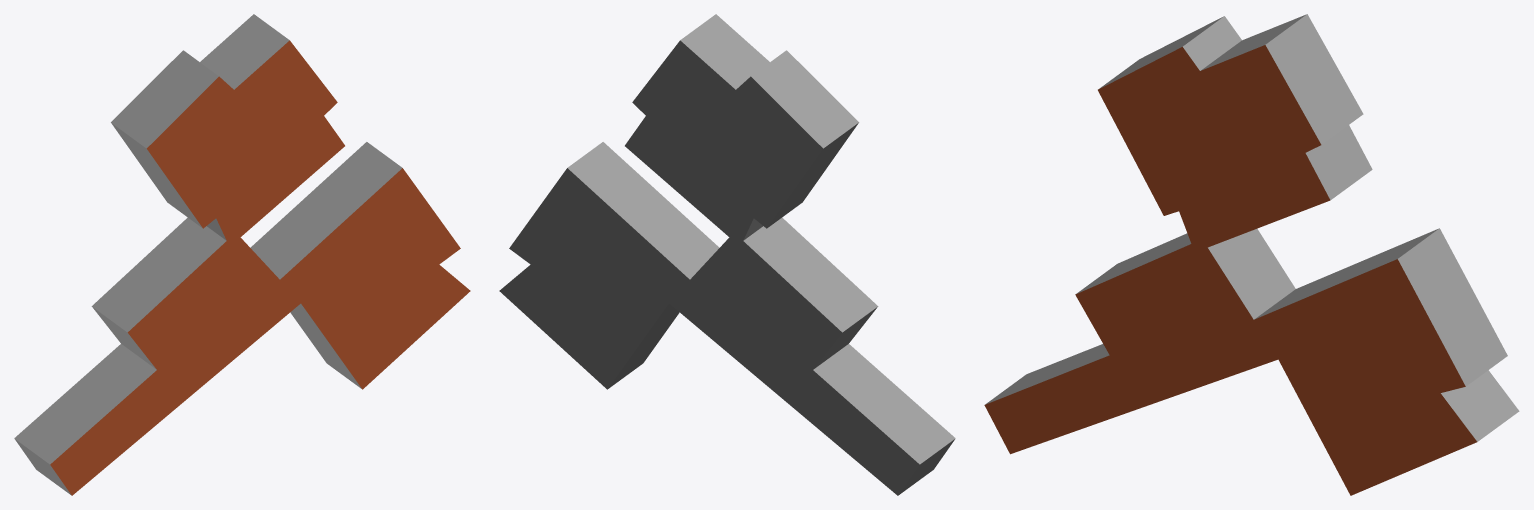
File: construction_4112_assumed_A_Casa_h6m.obj
3 views of the same model, side by side, from view 1: azimuth 30°, elevation 25°; view 2: azimuth 150°, elevation 25°; view 3: azimuth 330°, elevation 25° (orthographic). The views are drawn at different scales.
Visible parts, largest first — view 1: construction_4112_assumed_A_Casa; view 2: construction_4112_assumed_A_Casa; view 3: construction_4112_assumed_A_Casa.
Boxes of the visible parts, x1=… form: construction_4112_assumed_A_Casa: x1=14, y1=14, x2=470, y2=495; construction_4112_assumed_A_Casa: x1=499, y1=14, x2=955, y2=495; construction_4112_assumed_A_Casa: x1=984, y1=14, x2=1519, y2=495.
Size of the model in its own units: 40.56 by 37.09 by 6.
